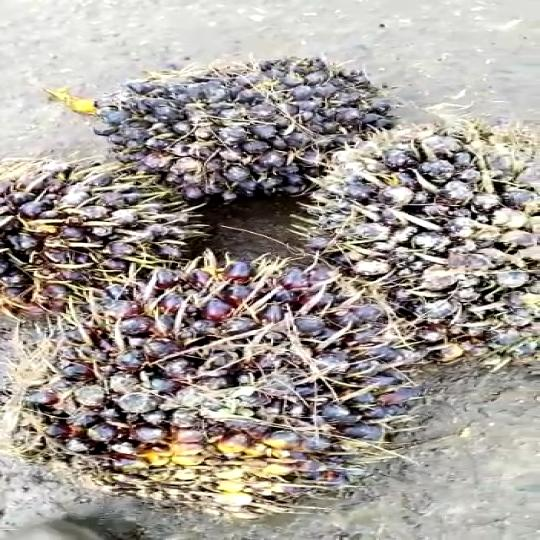mentah: (30, 235, 418, 507), (301, 117, 532, 368), (96, 50, 393, 194), (0, 142, 214, 324)
